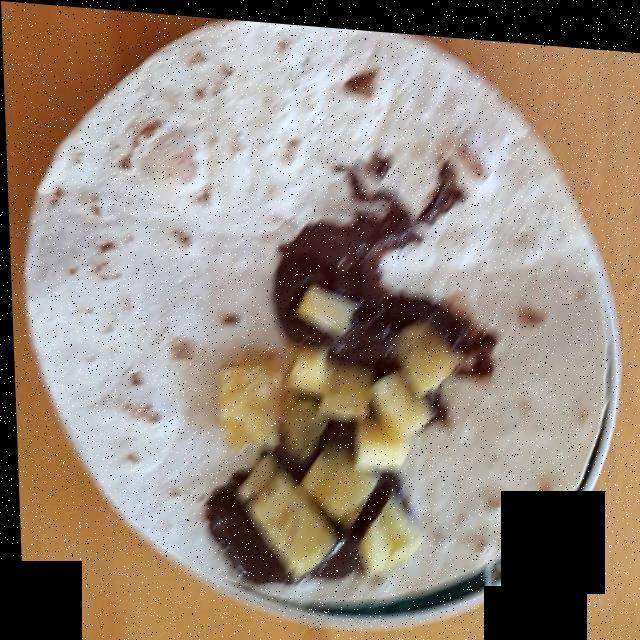bread: (38, 21, 631, 599)
pineapple: (219, 270, 447, 574)
